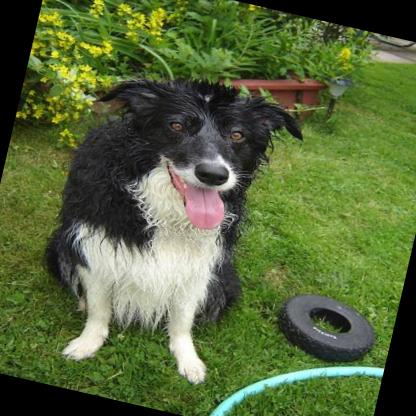Border_collie: (20, 52, 278, 390)
